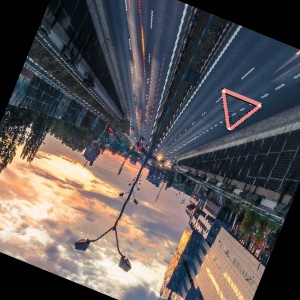triangle: (216, 84, 266, 132)
